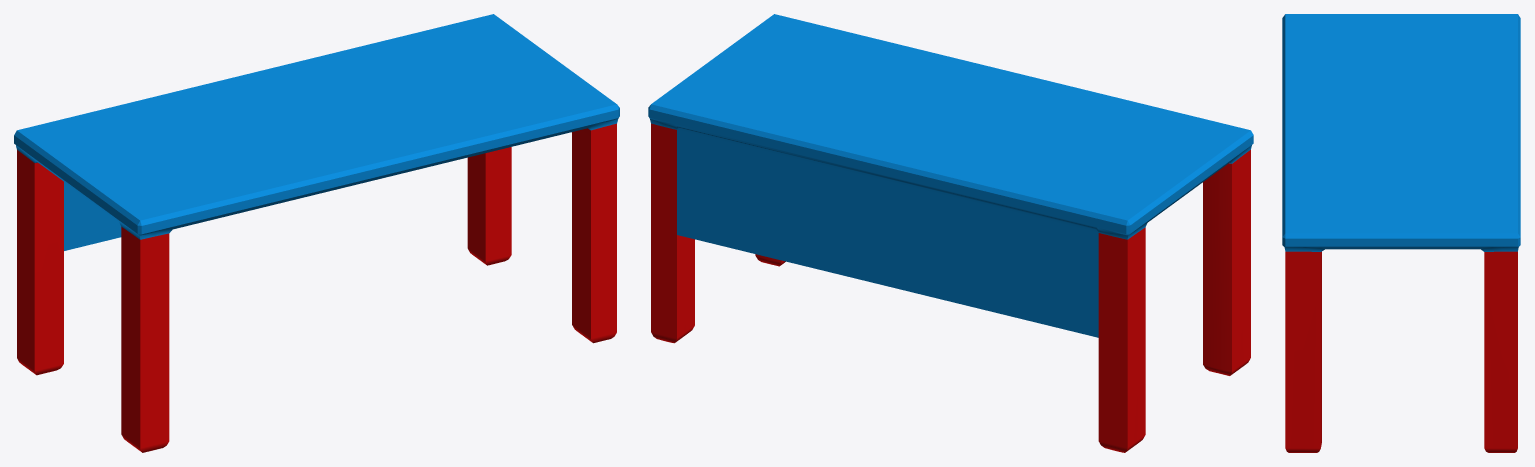
The model's file is desk.fbx.
The picture shows the model from 3 angles, left to right: view 1: azimuth 30°, elevation 25°; view 2: azimuth 150°, elevation 25°; view 3: azimuth 270°, elevation 25°; orthographic projection. The views are drawn at different scales.
Parts seen in each view (by area): view 1: desk; view 2: desk; view 3: desk.
Part boxes in pixels (x1=…): desk: x1=14, y1=14, x2=619, y2=452; desk: x1=648, y1=14, x2=1253, y2=452; desk: x1=1282, y1=14, x2=1520, y2=452.
Size of the model in its own units: 5.48 by 2.58 by 2.48.
